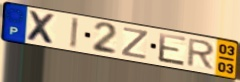2: (92, 21, 120, 55)
E: (158, 31, 188, 68)
I: (69, 16, 81, 51)
R: (184, 37, 217, 71)
X: (26, 9, 58, 47)
Z: (120, 26, 151, 61)
